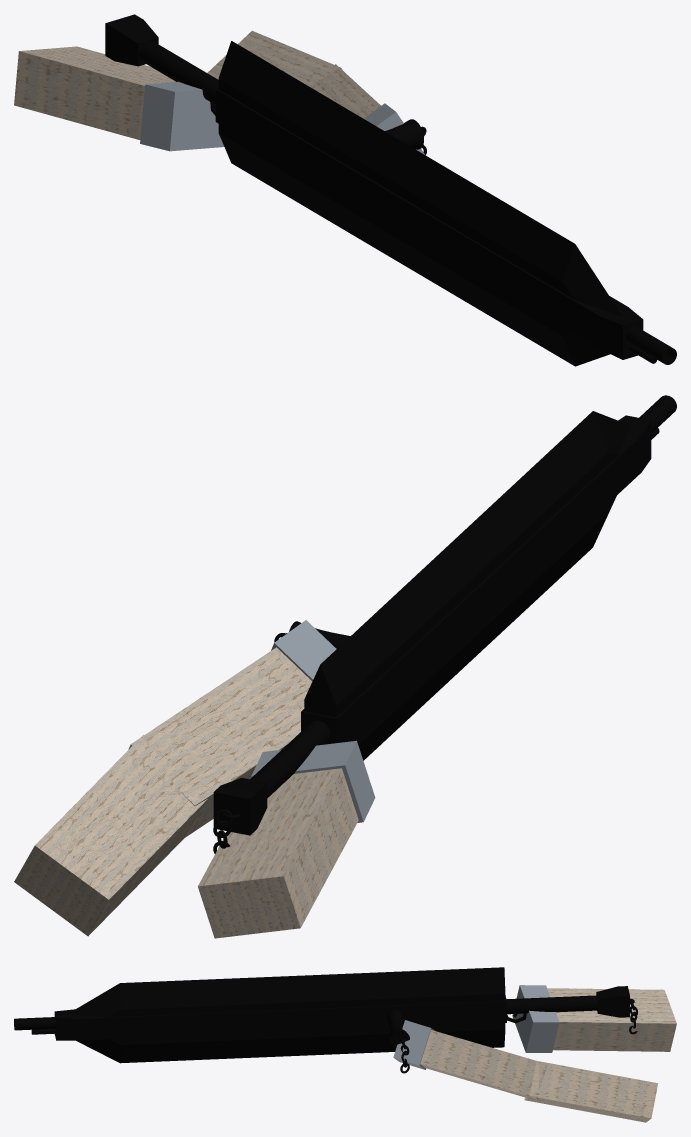
File: sword.glb
3 views of the same model, one above another, from view 1: azimuth 30°, elevation 25°; view 2: azimuth 150°, elevation 25°; view 3: azimuth 270°, elevation 25° (orthographic). The views are drawn at different scales.
Parts seen in each view (by area): view 1: Tore.006, Cube.097, Cube.096, Cube.100, Cube.098, Cube.099; view 2: Tore.006, Cube.100, Cube.097, Cube.098, Cube.096, Cube.099; view 3: Tore.006, Cube.097, Cube.100, Cube.098, Cube.096, Cube.099.
Boxes of the visible parts, x1,y1,x2,y2 form: Tore.006: [105, 14, 676, 366]; Cube.097: [14, 46, 175, 139]; Cube.096: [140, 81, 224, 151]; Cube.100: [207, 30, 342, 86]; Cube.098: [309, 64, 380, 118]; Cube.099: [364, 103, 425, 155]; Tore.006: [213, 395, 676, 853]; Cube.100: [14, 734, 207, 936]; Cube.097: [198, 768, 358, 938]; Cube.098: [128, 647, 312, 838]; Cube.096: [251, 740, 375, 822]; Cube.099: [271, 620, 336, 681]; Tore.006: [14, 967, 637, 1073]; Cube.097: [547, 988, 676, 1051]; Cube.100: [524, 1061, 657, 1122]; Cube.098: [420, 1030, 547, 1100]; Cube.096: [512, 985, 559, 1052]; Cube.099: [393, 1020, 434, 1069].
Bounding box in the file's own units: 0.7583 × 0.5229 × 2.54.
Materials: 6 (3 with a texture image).
